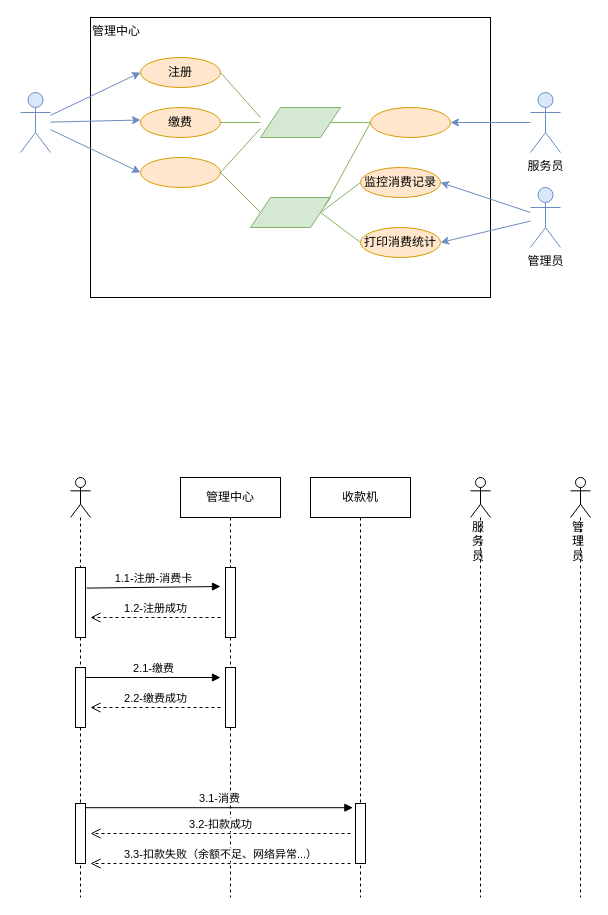
This 608x915 diagram has some shape labels left out. Here are the shapes that lost their labels. From the top down, the centre of each, then its label:
point (35, 122): 消费者
point (300, 122): 消费卡 :身份 :余额
point (410, 122): 扣费
point (180, 172): 消费
point (290, 212): 消费记录
point (80, 687): 消息者
